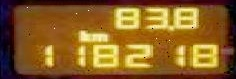-: (165, 24, 171, 30)
1: (36, 42, 54, 66), (169, 42, 185, 66), (69, 43, 85, 66)
2: (121, 42, 152, 67)
3: (140, 5, 167, 30)
8: (87, 42, 118, 67), (185, 42, 216, 67), (169, 5, 198, 29), (109, 5, 138, 29)
X: (74, 28, 89, 41), (89, 31, 107, 41)
